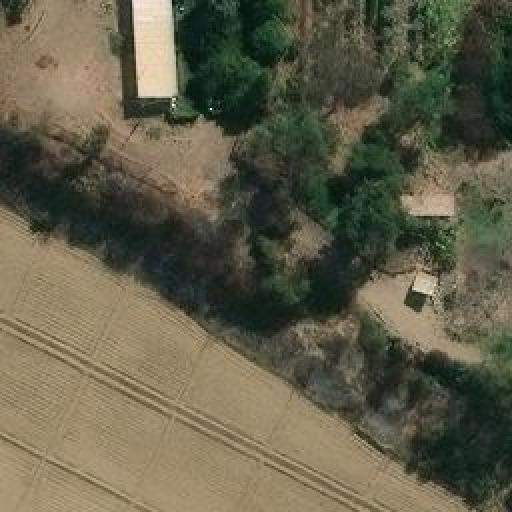manzanas: (127, 0, 191, 117), (387, 187, 463, 219), (407, 267, 449, 301)
